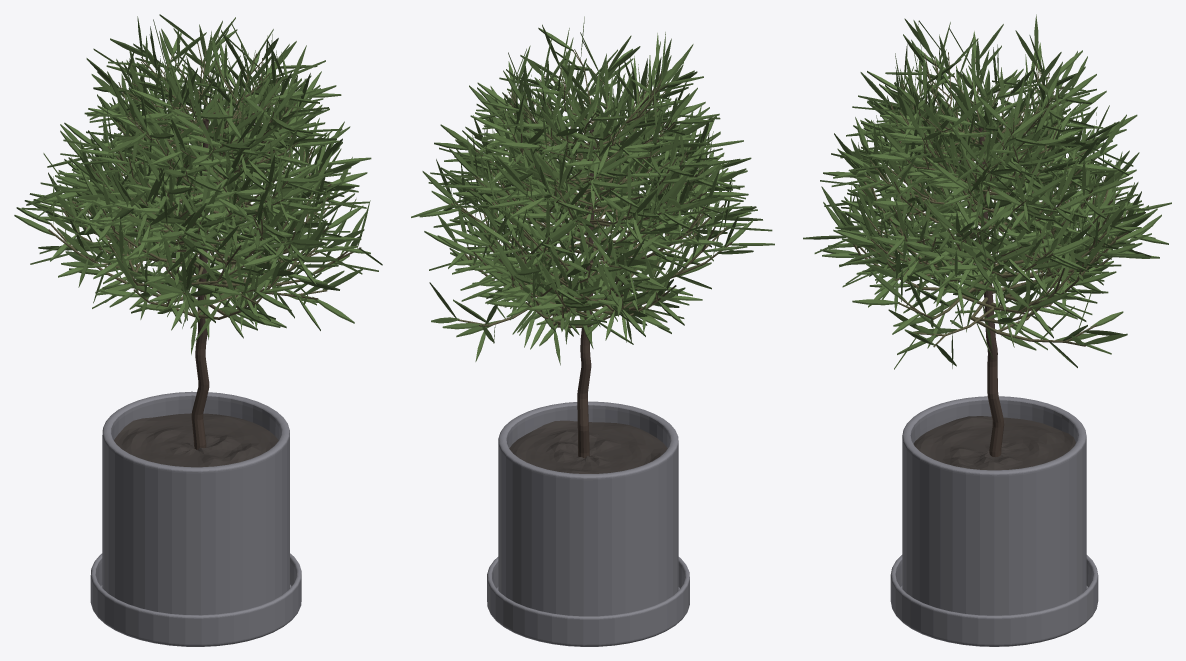
The model's file is decorativePlant.obj.
3 views of the same model, side by side, from view 1: azimuth 30°, elevation 25°; view 2: azimuth 150°, elevation 25°; view 3: azimuth 270°, elevation 25° (orthographic). The views are drawn at different scales.
Visible parts, largest first — view 1: leaves, Pot_Untitled.003, tree_Mesh, Ground_Untitled.004; view 2: leaves, Pot_Untitled.003, tree_Mesh, Ground_Untitled.004; view 3: leaves, Pot_Untitled.003, tree_Mesh, Ground_Untitled.004.
Boxes of the visible parts, <box> form: leaves: <box>14,14,382,354</box>; Pot_Untitled.003: <box>90,391,301,646</box>; tree_Mesh: <box>48,41,361,449</box>; Ground_Untitled.004: <box>114,413,278,467</box>; leaves: <box>411,16,774,365</box>; Pot_Untitled.003: <box>487,401,689,646</box>; tree_Mesh: <box>451,49,732,458</box>; Ground_Untitled.004: <box>509,420,667,473</box>; leaves: <box>803,14,1171,369</box>; Pot_Untitled.003: <box>890,396,1098,646</box>; tree_Mesh: <box>849,52,1129,457</box>; Ground_Untitled.004: <box>913,416,1075,470</box>.
Size of the model in its own units: 55.91 by 103 by 60.19.
